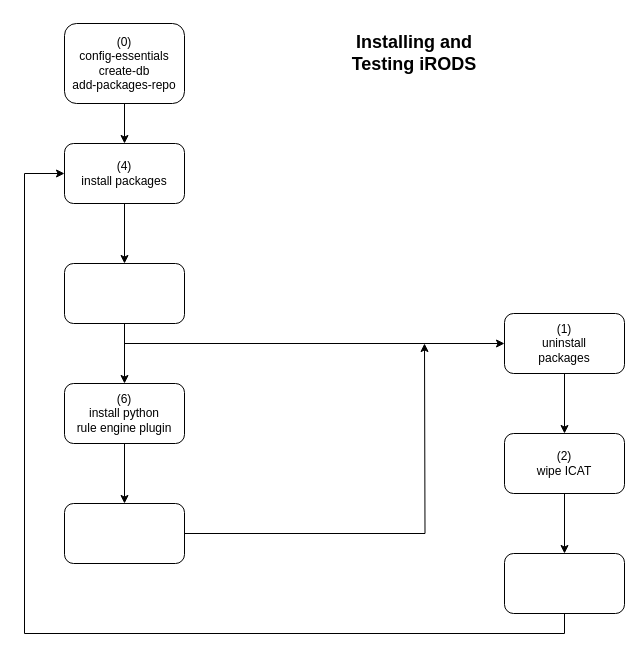
Image size: 642x659. Some labels were removed from this diagram. The centre of each missing label's shape, as x and y in pixels:
"(3) rename iRODS directories" goes at point (564, 583).
"(5) run irods install script" goes at point (124, 293).
"(7) install python REP as the only REP" goes at point (124, 533).
